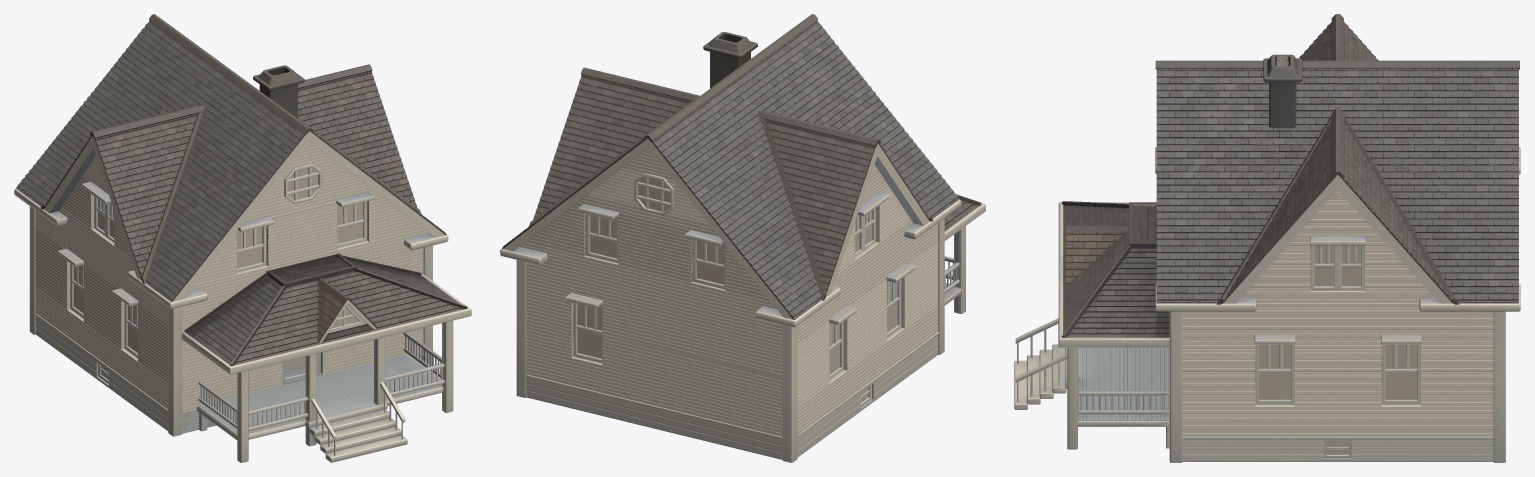
The model's file is farmhouse.glb.
3 renders of one model, left to right at view 1: azimuth 30°, elevation 25°; view 2: azimuth 150°, elevation 25°; view 3: azimuth 270°, elevation 25°, orthographic. The views are drawn at different scales.
Visible parts, largest first — view 1: Object_5; view 2: Object_5; view 3: Object_5.
Boxes of the visible parts, x1,y1,x2,y2 form: Object_5: (14,14,471,462); Object_5: (500,14,985,462); Object_5: (1014,14,1520,462).
Size of the model in its own units: 8.97 by 9 by 12.1.
Materials: 1 (1 with a texture image).
